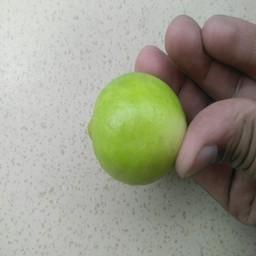Good_lime: (83, 68, 187, 188)
